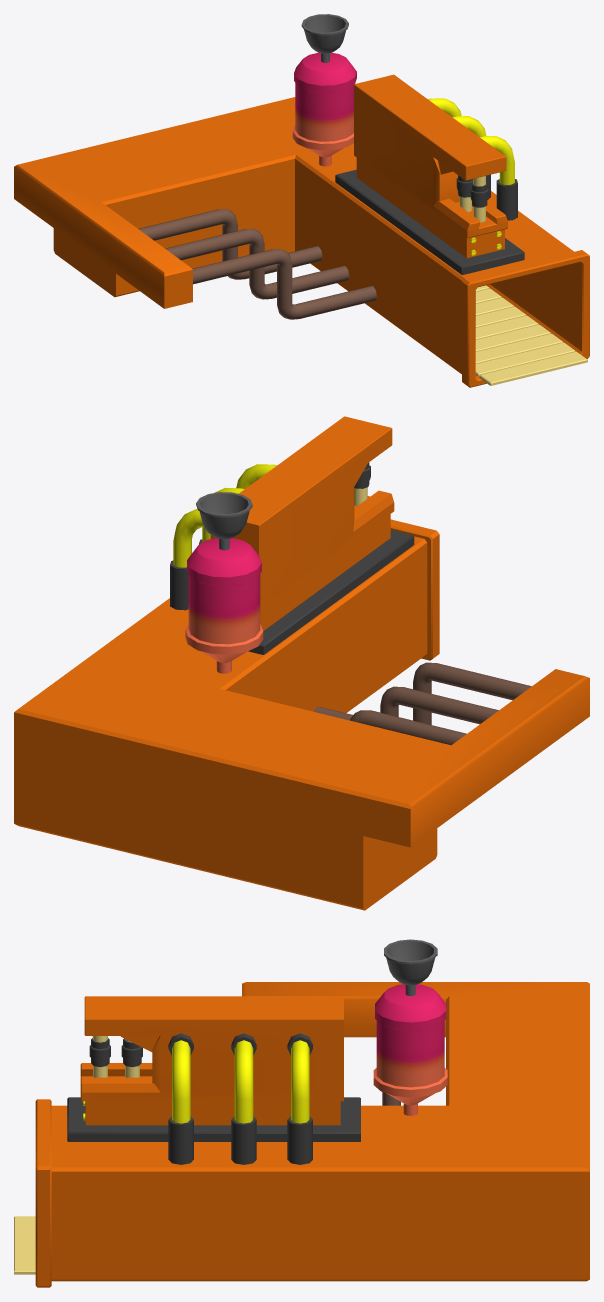
The model's file is MilkingMachine.fbx.
3 views of the same model, one above another, from view 1: azimuth 30°, elevation 25°; view 2: azimuth 150°, elevation 25°; view 3: azimuth 270°, elevation 25° (orthographic). The views are drawn at different scales.
Parts seen in each view (by area): view 1: Base, Box010, MilkingMachine, Box004, Pipe1; view 2: Base, MilkingMachine, Pie3; view 3: Base, MilkingMachine, Pipe2, Pie3, Pipe1, Box004.
Part boxes in pixels (x1,y1,x2,y2): Base: (14,14,589,387); Box010: (475,285,575,376); MilkingMachine: (456,174,517,220); Box004: (479,351,587,385); Pipe1: (480,136,514,184); Base: (14,416,589,910); MilkingMachine: (170,462,370,610); Pie3: (173,509,203,567); Base: (35,939,589,1287); MilkingMachine: (89,1033,312,1164); Pipe2: (234,1040,253,1123); Pie3: (291,1040,309,1123); Pipe1: (172,1040,190,1123); Box004: (14,1216,35,1274).
Bounding box in the file's own units: 14.59 × 9.99 × 18.66.
